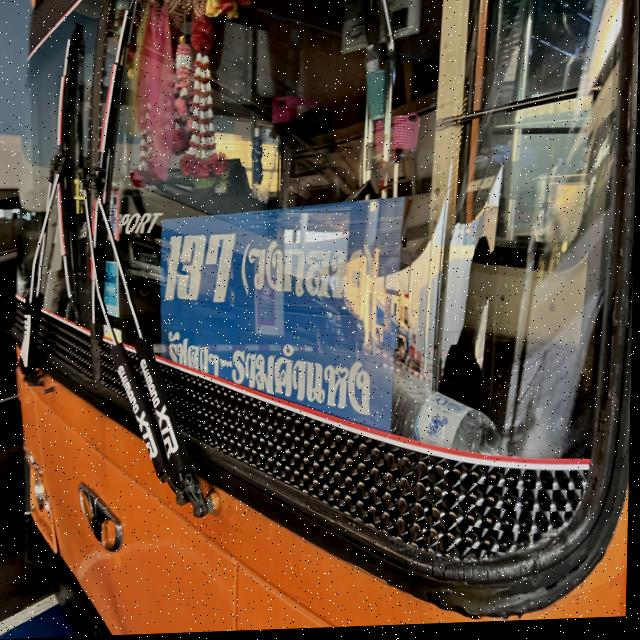BMTA-bus: (0, 0, 640, 640)
Destination-Sign-Normal: (158, 197, 400, 450)
